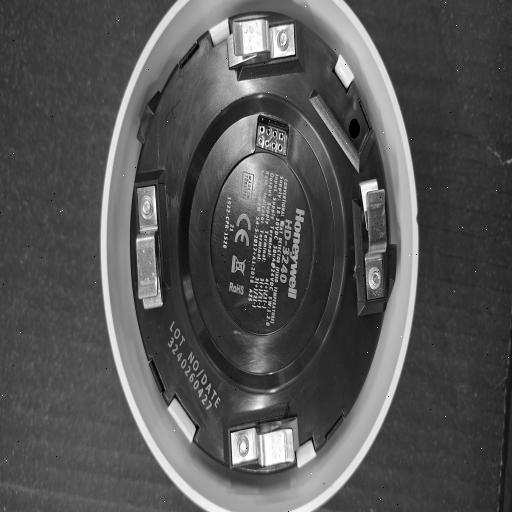yayli: (222, 408, 307, 485), (350, 167, 390, 309), (131, 177, 170, 320), (216, 15, 308, 69)
